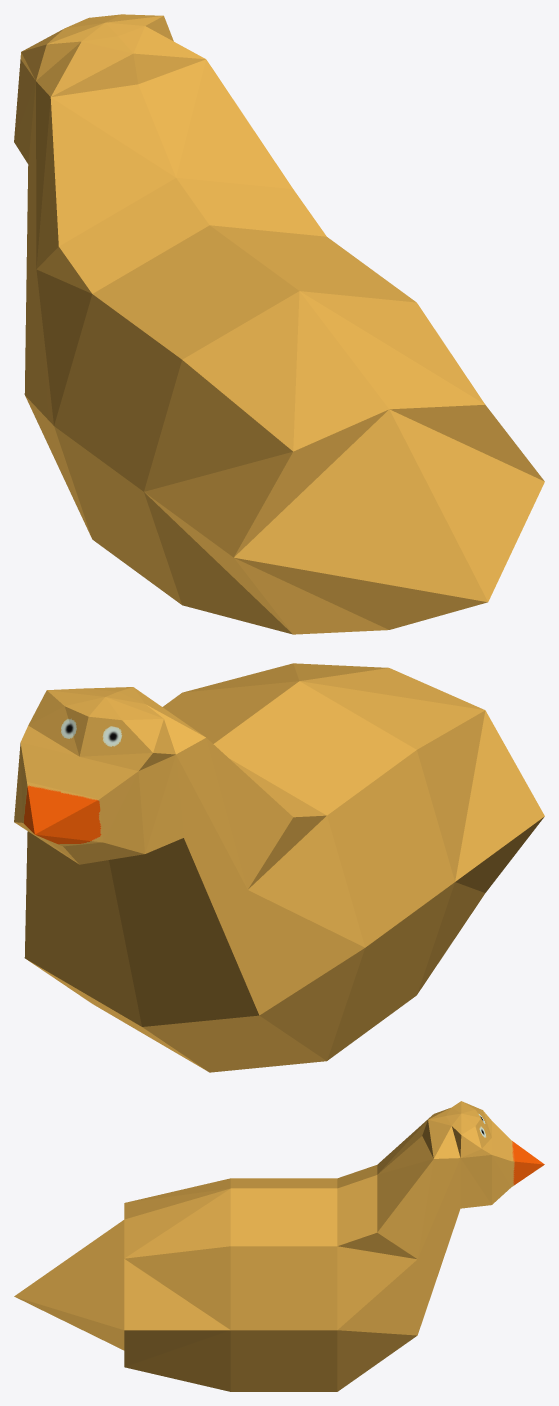
Rendered from chicken.gltf.
The picture shows the model from 3 angles, top to bottom: view 1: azimuth 30°, elevation 25°; view 2: azimuth 150°, elevation 25°; view 3: azimuth 270°, elevation 25°; orthographic projection. The views are drawn at different scales.
Visible parts, largest first — view 1: Cube.001; view 2: Cube.001; view 3: Cube.001.
Boxes of the visible parts, <box> form: Cube.001: <box>14,14,544,634</box>; Cube.001: <box>14,663,544,1072</box>; Cube.001: <box>14,1101,544,1391</box>.
Size of the model in its own units: 2 by 2.78 by 4.98.
1 material, 1 textured.
